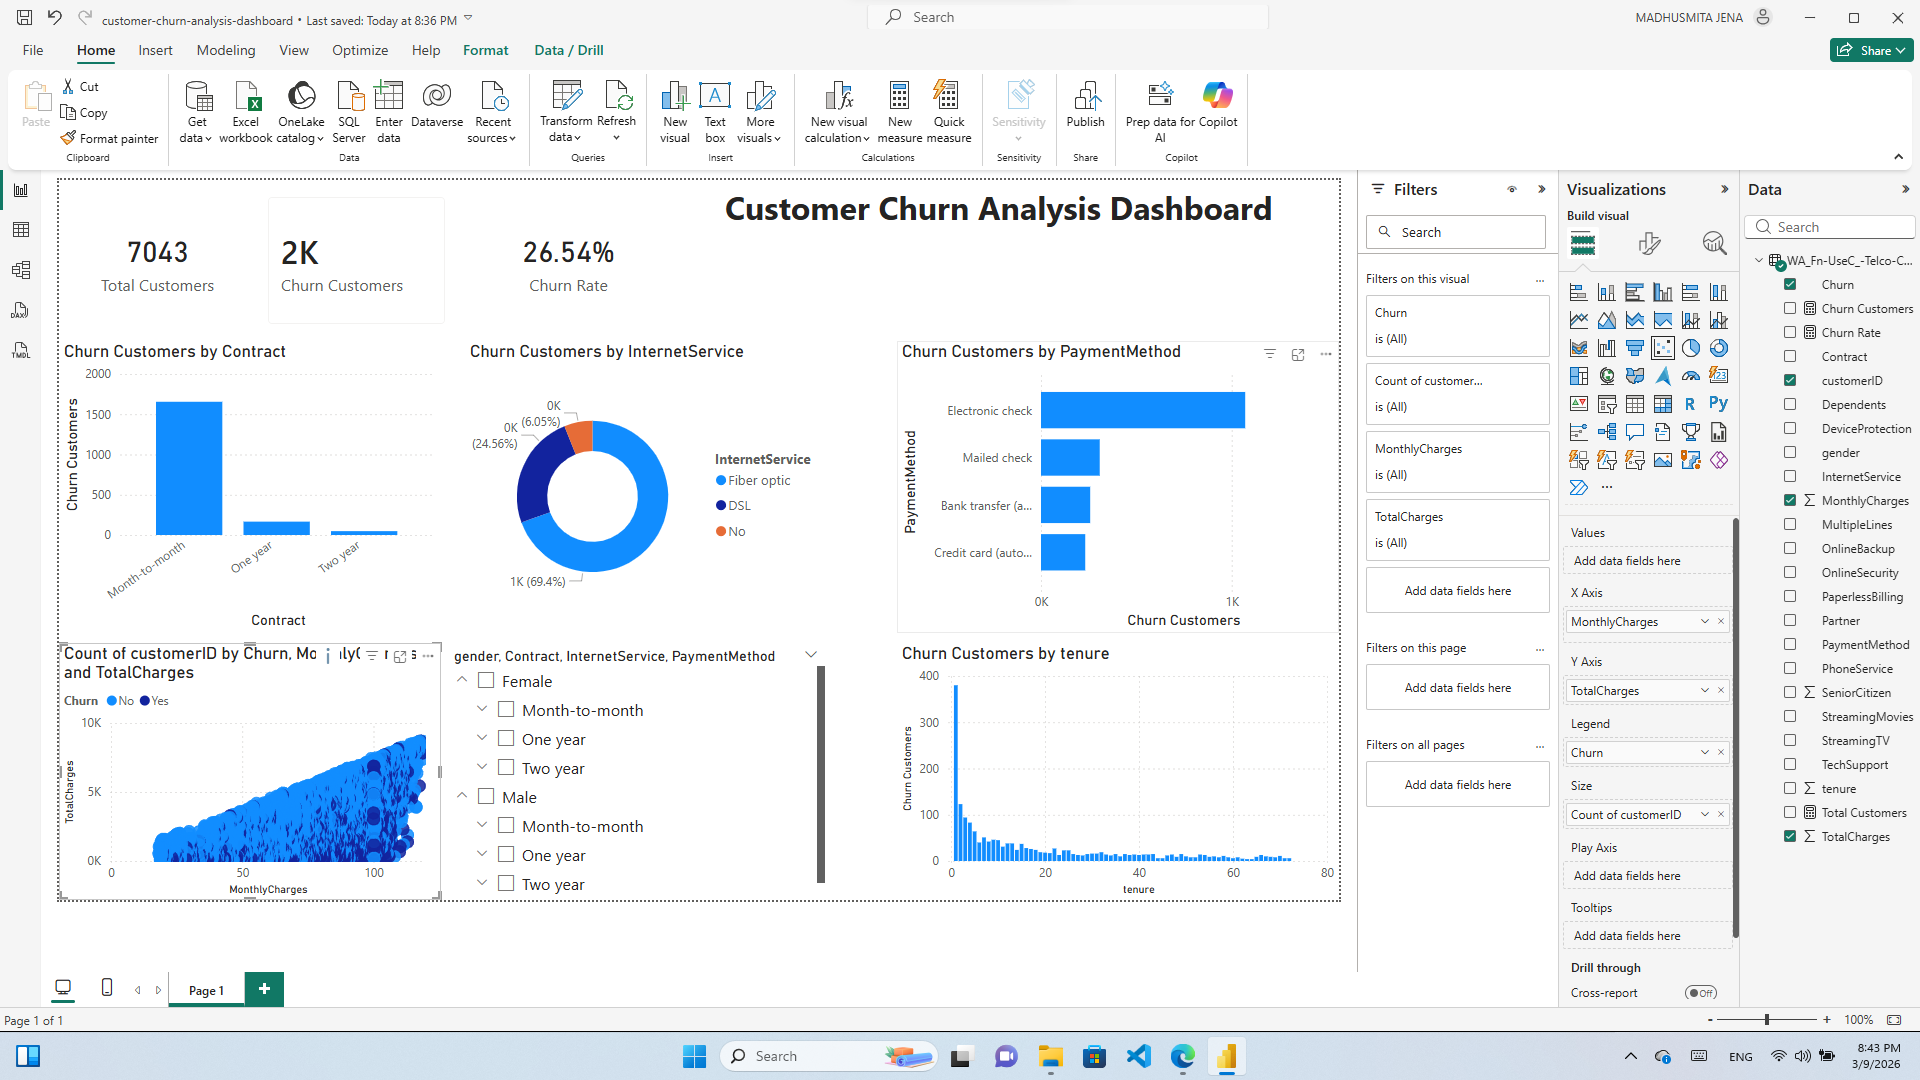

Layout of this report page (visuals, bound fields, positions):
{"tool":"powerbi","page":{"name":"Page 1","canvas":[1280,720],"ordinal":0},"visuals":[{"type":"card","fields":{"Values":["WA_Fn-UseC_-Telco-Customer-Churn.Total Customers"]},"box":[9.7,0,177,161.5],"z":0},{"type":"card","fields":{"Values":["WA_Fn-UseC_-Telco-Customer-Churn.Churn Rate"]},"box":[402.7,0,213,161.5],"z":1000},{"type":"clusteredColumnChart","fields":{"Category":["WA_Fn-UseC_-Telco-Customer-Churn.Contract"],"Y":["WA_Fn-UseC_-Telco-Customer-Churn.Churn Customers"]},"box":[0,161.5,382.2,291.8],"z":2000},{"type":"donutChart","fields":{"Category":["WA_Fn-UseC_-Telco-Customer-Churn.InternetService"],"Y":["WA_Fn-UseC_-Telco-Customer-Churn.Churn Customers"]},"box":[405.6,161.5,365.7,291.8],"z":3000},{"type":"barChart","fields":{"Category":["WA_Fn-UseC_-Telco-Customer-Churn.PaymentMethod"],"Y":["WA_Fn-UseC_-Telco-Customer-Churn.Churn Customers"]},"box":[838.4,161.5,441.6,291.8],"z":4000},{"type":"scatterChart","fields":{"X":["WA_Fn-UseC_-Telco-Customer-Churn.MonthlyCharges"],"Y":["WA_Fn-UseC_-Telco-Customer-Churn.TotalCharges"],"Series":["WA_Fn-UseC_-Telco-Customer-Churn.Churn"],"Size":["CountNonNull(WA_Fn-UseC_-Telco-Customer-Churn.customerID)"]},"box":[0,463,382.2,256.8],"z":5000},{"type":"slicer","fields":{"Values":["WA_Fn-UseC_-Telco-Customer-Churn.gender","WA_Fn-UseC_-Telco-Customer-Churn.Contract","WA_Fn-UseC_-Telco-Customer-Churn.InternetService","WA_Fn-UseC_-Telco-Customer-Churn.PaymentMethod"]},"box":[382.2,463,389.1,256.8],"z":6000},{"type":"cardVisual","fields":{"Data":["WA_Fn-UseC_-Telco-Customer-Churn.Churn Customers"]},"box":[191.6,0,211.1,161.5],"z":7000},{"type":"textbox","box":[661.4,0,618.6,53.5],"z":9000},{"type":"clusteredColumnChart","fields":{"Category":["WA_Fn-UseC_-Telco-Customer-Churn.tenure"],"Y":["WA_Fn-UseC_-Telco-Customer-Churn.Churn Customers"]},"box":[838,463,442,257],"z":9001}]}

Visuals, with their boxes on the page's 1280x720 design canvas (x1, y1, x2, y2). These are canvas units, not pixel positions in the 1920x1080 screenshot, which may show the page scaled, cropped or inside an application window:
card - WA_Fn-UseC_-Telco-Customer-Churn.Total Customers: locate(10, 0, 187, 162)
card - WA_Fn-UseC_-Telco-Customer-Churn.Churn Rate: locate(403, 0, 616, 162)
clusteredColumnChart - WA_Fn-UseC_-Telco-Customer-Churn.Contract x WA_Fn-UseC_-Telco-Customer-Churn.Churn Customers: locate(0, 162, 382, 453)
donutChart - WA_Fn-UseC_-Telco-Customer-Churn.InternetService x WA_Fn-UseC_-Telco-Customer-Churn.Churn Customers: locate(406, 162, 771, 453)
barChart - WA_Fn-UseC_-Telco-Customer-Churn.PaymentMethod x WA_Fn-UseC_-Telco-Customer-Churn.Churn Customers: locate(838, 162, 1280, 453)
scatterChart - WA_Fn-UseC_-Telco-Customer-Churn.MonthlyCharges x WA_Fn-UseC_-Telco-Customer-Churn.TotalCharges: locate(0, 463, 382, 720)
slicer - WA_Fn-UseC_-Telco-Customer-Churn.gender x WA_Fn-UseC_-Telco-Customer-Churn.Contract: locate(382, 463, 771, 720)
cardVisual - WA_Fn-UseC_-Telco-Customer-Churn.Churn Customers: locate(192, 0, 403, 162)
textbox: locate(661, 0, 1280, 54)
clusteredColumnChart - WA_Fn-UseC_-Telco-Customer-Churn.tenure x WA_Fn-UseC_-Telco-Customer-Churn.Churn Customers: locate(838, 463, 1280, 720)
